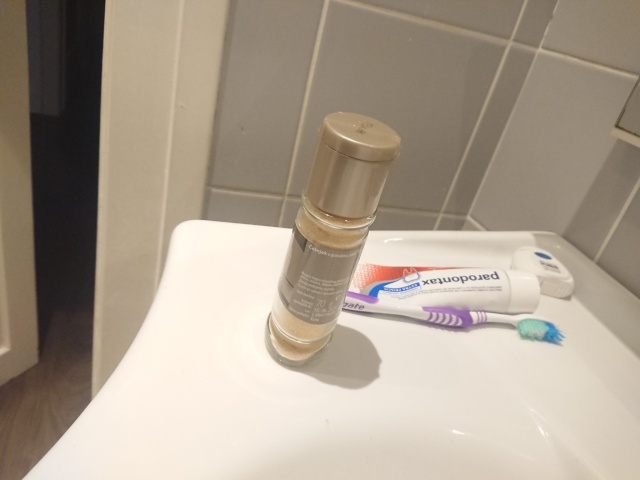Kotanyi Garlic Granules 70g: (262, 110, 404, 370)
